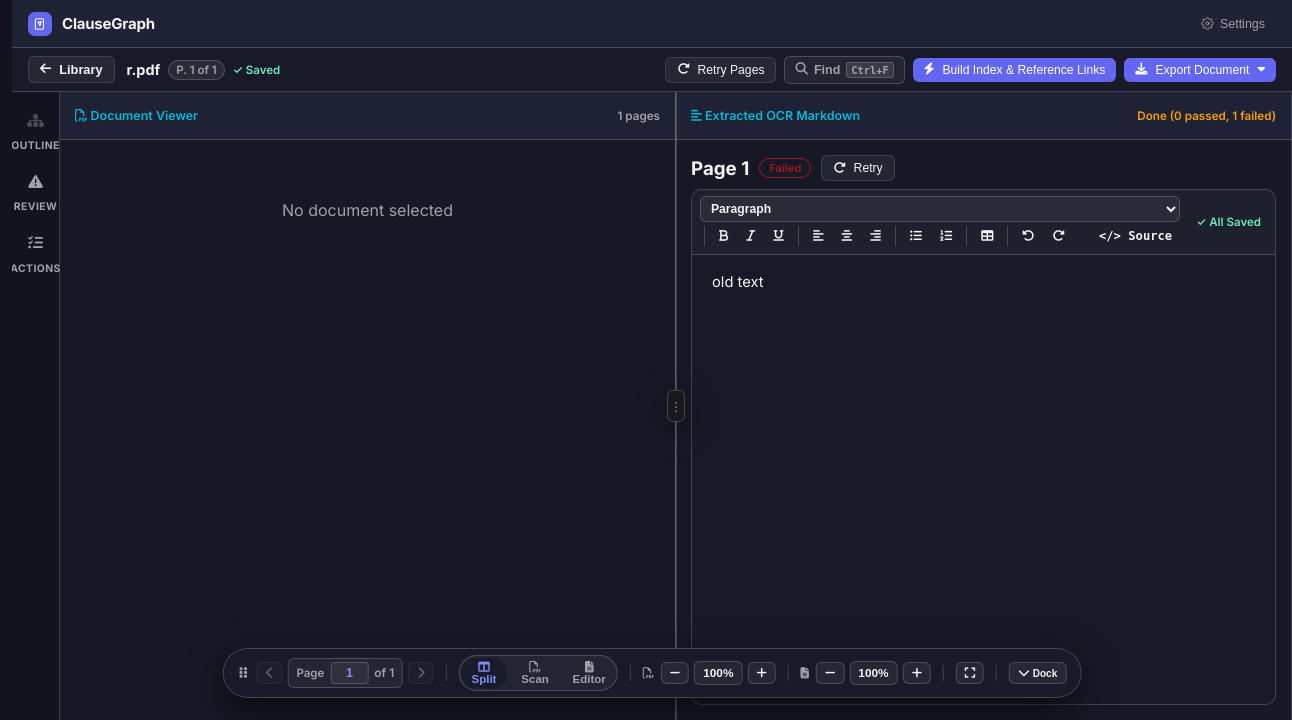
Test: AppShell/StudioView — per-page and bulk Retry actions › handleRetryPage merges the returned page (matched by page_num) into pages_data
Click the button with test id "retry-page-1".
click(858, 168)  # box 822,155 -> 895,181
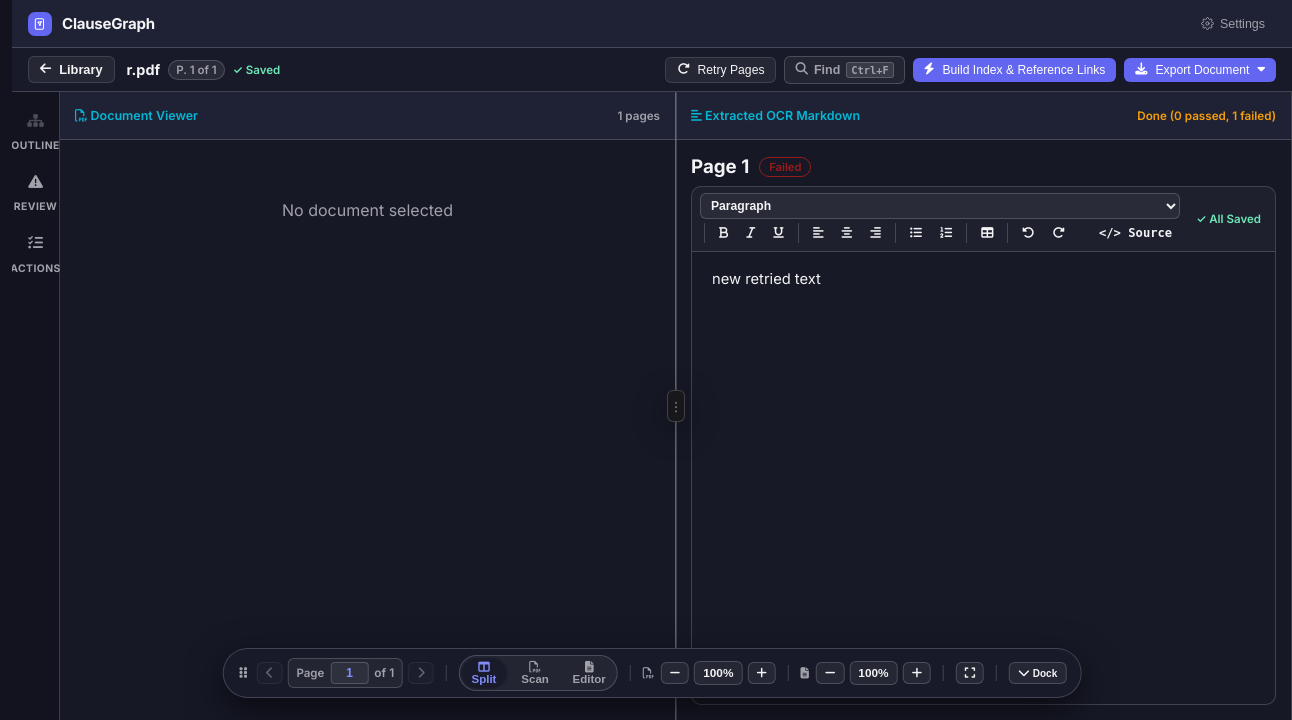
Check: the text box "new retried text" is shown, box 712,270 -> 821,288
Check: the field "old text" is gone
